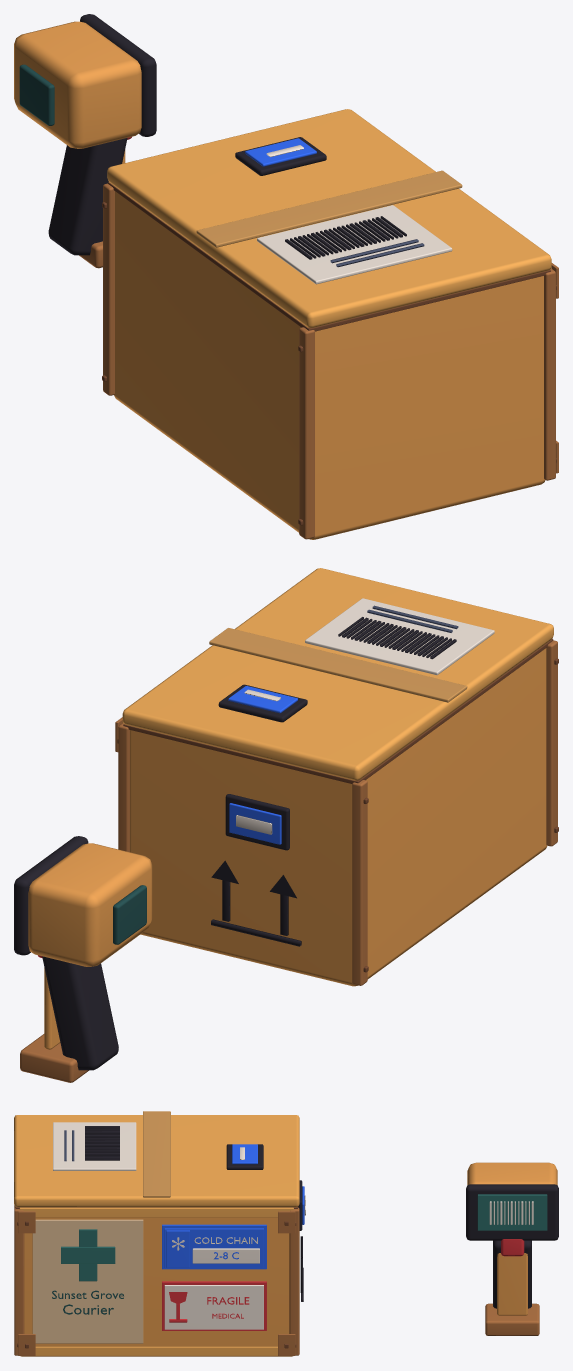
The picture shows the model from 3 angles, top to bottom: view 1: azimuth 30°, elevation 25°; view 2: azimuth 150°, elevation 25°; view 3: azimuth 270°, elevation 25°; orthographic projection. The views are drawn at different scales.
Parts seen in each view (by area): view 1: body_pal_orange, body_pal_corgiOrangeLight, scanner_pal_orange, body_pal_woodWarm, scanner_pal_uiDark, body_pal_picketWhite, body_pal_brass, body_pal_uiDark, body_pal_leatherShadow, scanner_pal_tealDark, body_pal_policeBlue, body_pal_denim; view 2: body_pal_orange, body_pal_corgiOrangeLight, scanner_pal_orange, scanner_pal_uiDark, body_pal_woodWarm, body_pal_uiDark, body_pal_picketWhite, body_pal_brass, body_pal_leatherShadow, body_pal_policeBlue, scanner_pal_woodWarm, scanner_pal_tealDark (+1 smaller); view 3: body_pal_corgiOrangeLight, body_pal_canvasTan, body_pal_orange, body_pal_picketWhite, body_pal_policeBlue, body_pal_woodWarm, scanner_pal_orange, scanner_pal_uiDark, body_pal_brass, scanner_pal_backpackTeal, body_pal_uiDark, body_pal_backpackTeal (+6 smaller).
Boxes of the visible parts, <box> form: body_pal_orange: <box>114,191,545,539</box>; body_pal_corgiOrangeLight: <box>107,109,551,327</box>; scanner_pal_orange: <box>14,21,141,163</box>; body_pal_woodWarm: <box>103,183,558,539</box>; scanner_pal_uiDark: <box>48,14,156,255</box>; body_pal_picketWhite: <box>257,145,452,284</box>; body_pal_brass: <box>196,170,462,247</box>; body_pal_uiDark: <box>235,137,406,259</box>; body_pal_leatherShadow: <box>102,182,556,525</box>; scanner_pal_tealDark: <box>19,64,54,125</box>; body_pal_policeBlue: <box>245,138,316,166</box>; body_pal_denim: <box>330,239,424,267</box>; body_pal_orange: <box>130,648,547,986</box>; body_pal_corgiOrangeLight: <box>122,568,553,780</box>; scanner_pal_orange: <box>28,843,152,1049</box>; scanner_pal_uiDark: <box>14,836,118,1070</box>; body_pal_woodWarm: <box>115,640,557,985</box>; body_pal_uiDark: <box>211,617,456,946</box>; body_pal_picketWhite: <box>236,598,494,834</box>; body_pal_brass: <box>209,628,467,702</box>; body_pal_leatherShadow: <box>117,639,558,972</box>; body_pal_policeBlue: <box>228,686,297,844</box>; scanner_pal_woodWarm: <box>20,1034,88,1082</box>; scanner_pal_tealDark: <box>113,885,146,944</box>; body_pal_corgiOrangeLight: <box>14,1115,299,1355</box>; body_pal_canvasTan: <box>32,1219,143,1343</box>; body_pal_orange: <box>20,1217,292,1356</box>; body_pal_picketWhite: <box>53,1122,305,1329</box>; body_pal_policeBlue: <box>162,1144,304,1269</box>; body_pal_woodWarm: <box>14,1205,299,1355</box>; scanner_pal_orange: <box>467,1162,557,1315</box>; scanner_pal_uiDark: <box>466,1184,558,1308</box>; body_pal_brass: <box>143,1111,170,1197</box>; scanner_pal_backpackTeal: <box>477,1194,547,1230</box>; body_pal_uiDark: <box>85,1126,303,1301</box>; body_pal_backpackTeal: <box>61,1229,115,1281</box>.
Size of the model in its own units: 0.5541 by 0.484 by 1.4.
